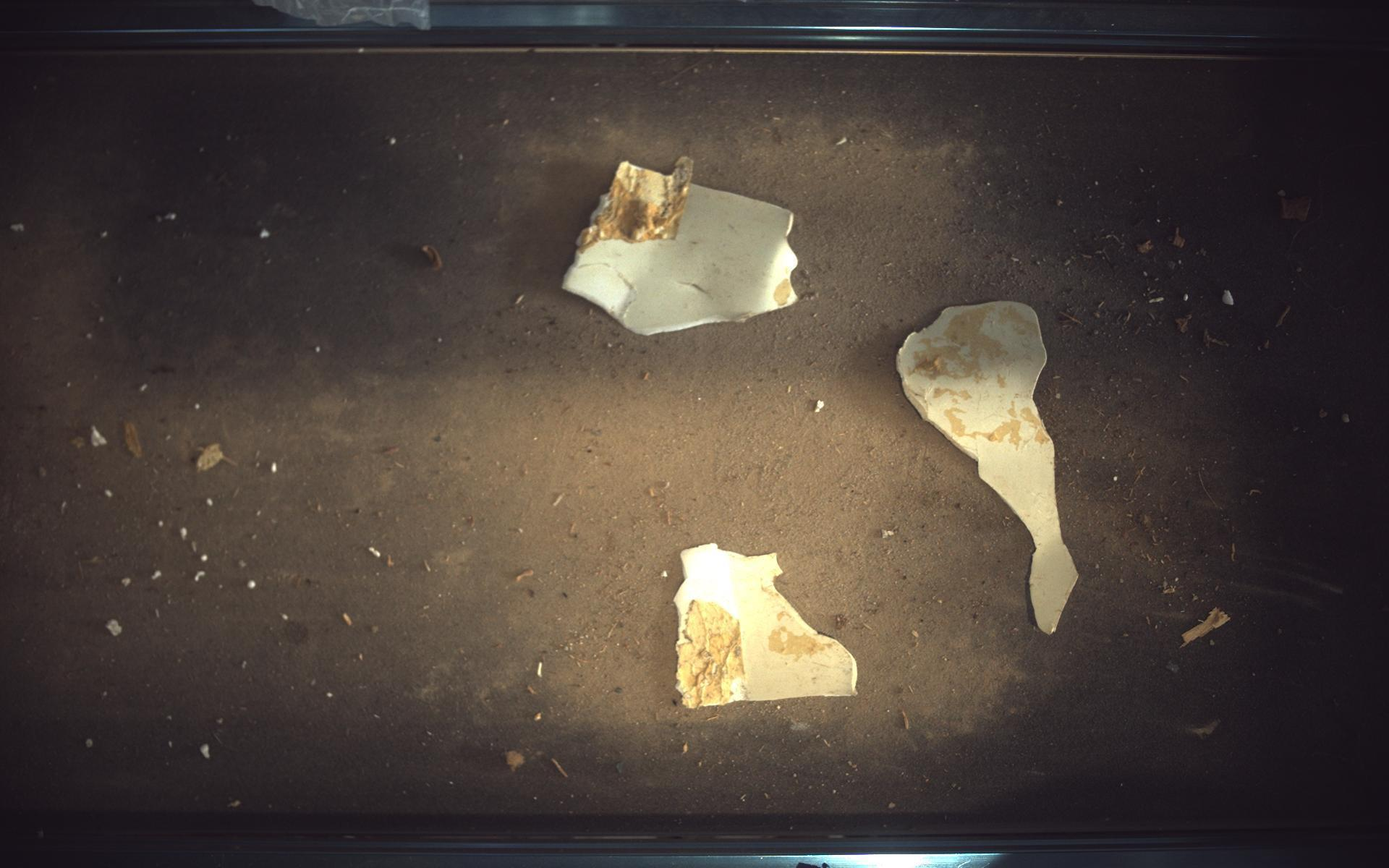plastic: (899, 301, 1080, 634), (563, 156, 799, 335), (676, 544, 859, 709)
